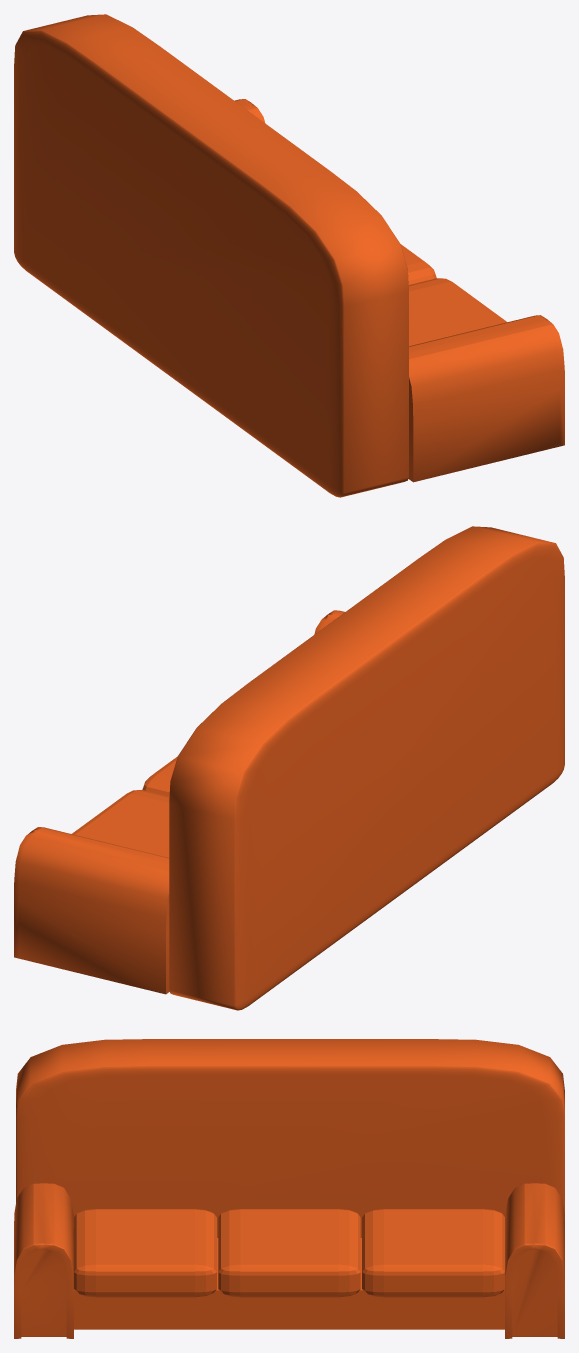
File: sofa2.fbx
3 views of the same model, one above another, from view 1: azimuth 30°, elevation 25°; view 2: azimuth 150°, elevation 25°; view 3: azimuth 270°, elevation 25° (orthographic). The views are drawn at different scales.
Parts seen in each view (by area): view 1: Plane.003, Plane.007, Plane.002; view 2: Plane.003, Plane.007, Plane.002; view 3: Plane.003, Plane.002, Plane.007, Plane.001.
Part boxes in pixels (left/top/right/bottom): Plane.003: left=14, top=14, right=408, bottom=497; Plane.007: left=234, top=99, right=564, bottom=482; Plane.002: left=400, top=244, right=507, bottom=346; Plane.003: left=169, top=526, right=564, bottom=1010; Plane.007: left=14, top=610, right=344, bottom=994; Plane.002: left=72, top=756, right=177, bottom=857; Plane.003: left=16, top=1039, right=564, bottom=1237; Plane.002: left=74, top=1209, right=504, bottom=1297; Plane.007: left=14, top=1183, right=564, bottom=1338; Plane.001: left=74, top=1238, right=504, bottom=1329.
Bounding box in the file's own units: 229 × 253 × 588.
